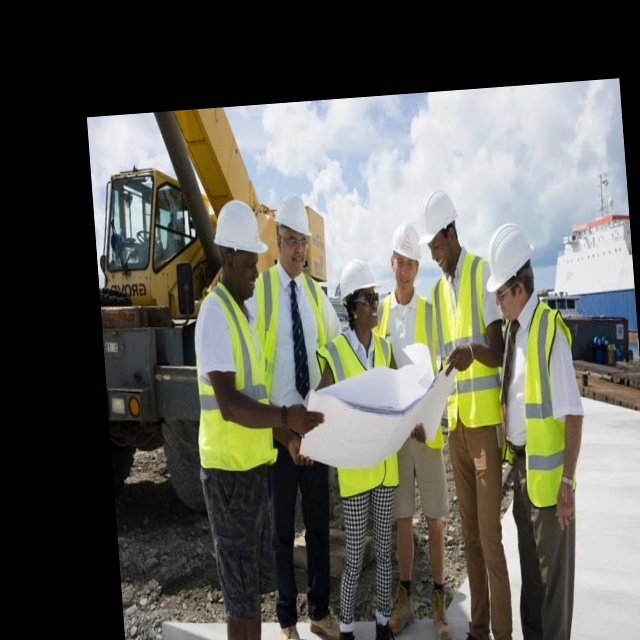Con_Chaleco: (498, 292, 577, 512), (425, 261, 500, 434), (247, 265, 330, 409)
